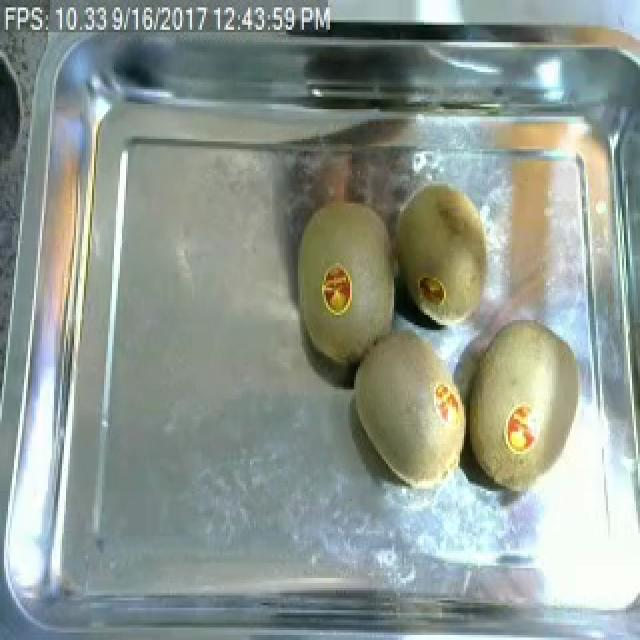Fruit: (344, 320, 478, 501), (282, 189, 406, 377), (390, 173, 504, 340)
